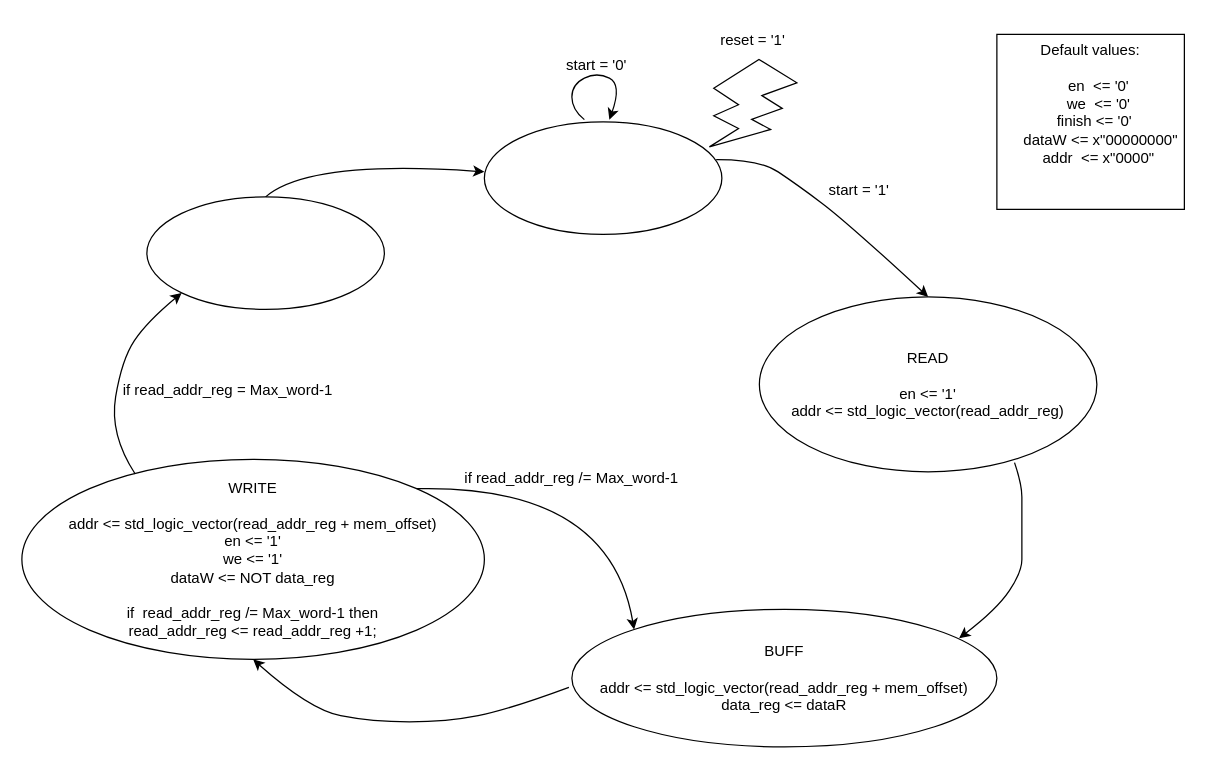
Image size: 1206x769. Some labels were removed from this diagram. The shapes that lost their labels are listed below. From the top down, each one's centre as x and y in pixels, then its label:
(x=602, y=177): IDLE read_addr_reg <= x"0000"
(x=265, y=252): DONE en <= '0' we <= '0' fininsh <= '1'
